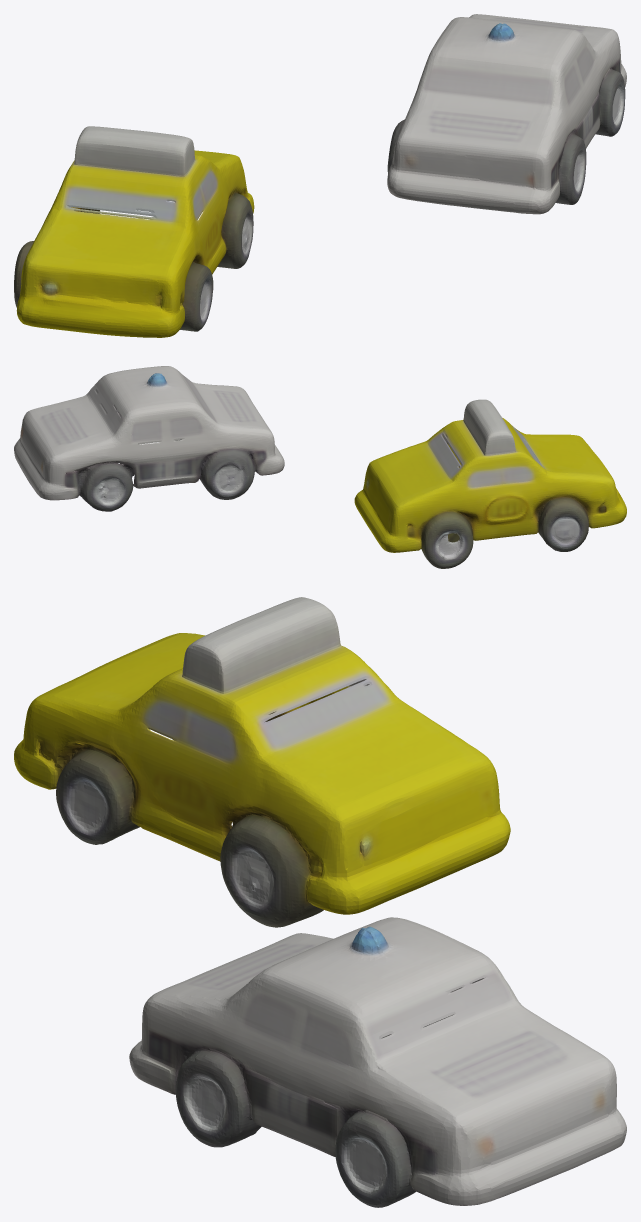
File: stream3d.glb
3 renders of one model, top to bottom at view 1: azimuth 30°, elevation 25°; view 2: azimuth 150°, elevation 25°; view 3: azimuth 270°, elevation 25°, orthographic. The views are drawn at different scales.
Parts seen in each view (by area): view 1: world; view 2: world; view 3: world.
Boxes of the visible parts, x1,y1,x2,y2 form: world: [14, 14, 626, 337]; world: [14, 366, 626, 568]; world: [14, 597, 626, 1207].
Bounding box in the file's own units: 1.1 × 0.2384 × 0.5714.
